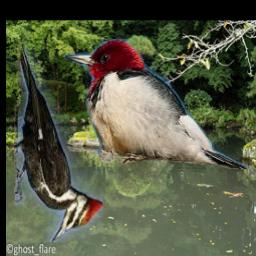Woodpecker: (65, 40, 249, 170), (15, 35, 104, 242)
